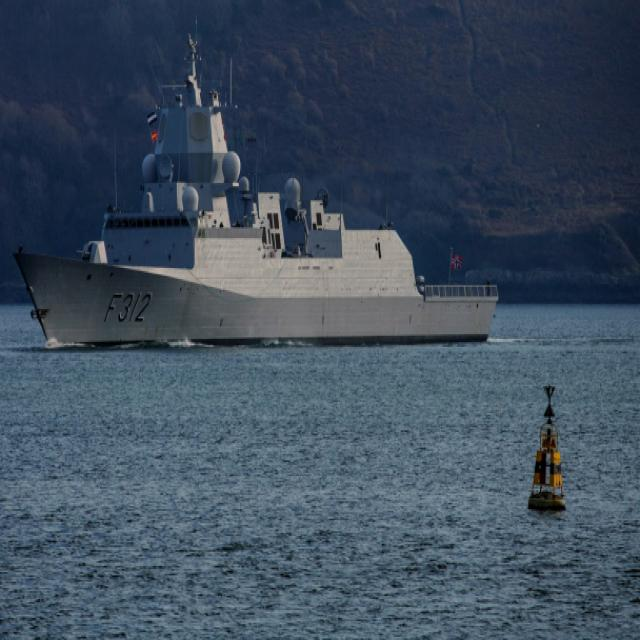Fragata: (12, 20, 502, 349)
